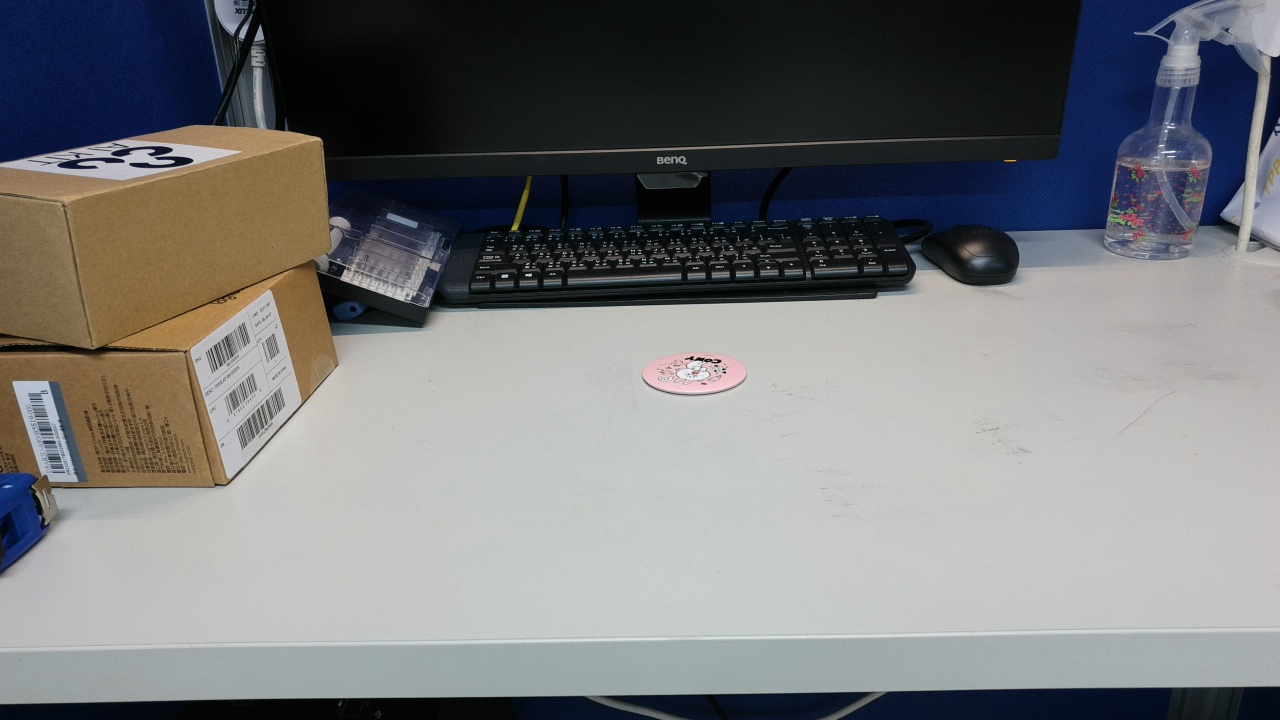columnar: (491, 147, 679, 450)
